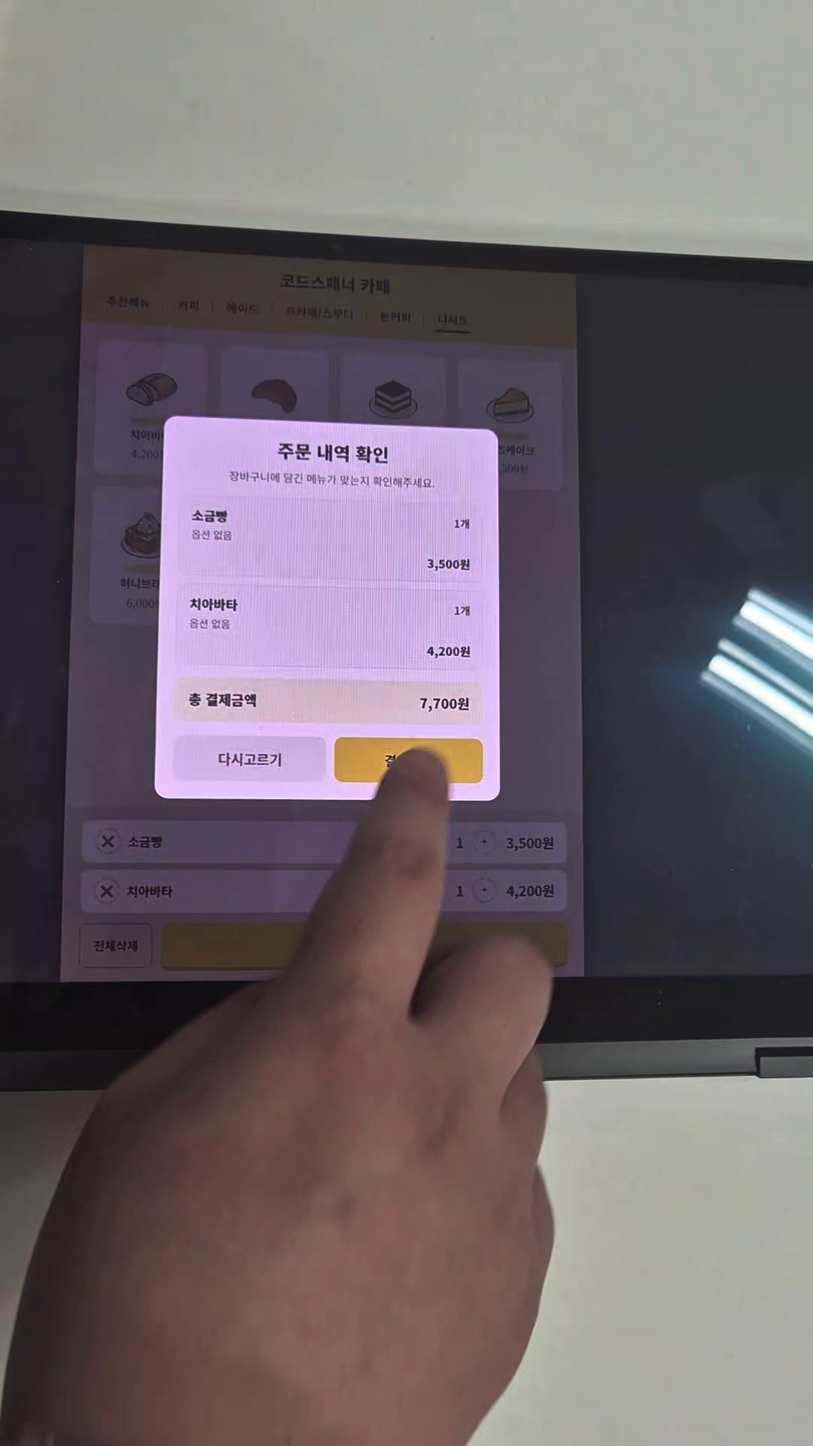action_button: (176, 733, 326, 780), (335, 737, 481, 782)
menu_name: (191, 506, 228, 525), (191, 596, 237, 610)
menu_price: (426, 556, 471, 572), (425, 644, 470, 658)
popup_modal: (153, 417, 501, 801)
